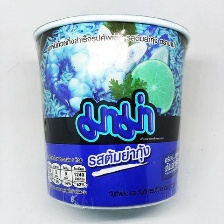paper_cup: (28, 10, 194, 213)
